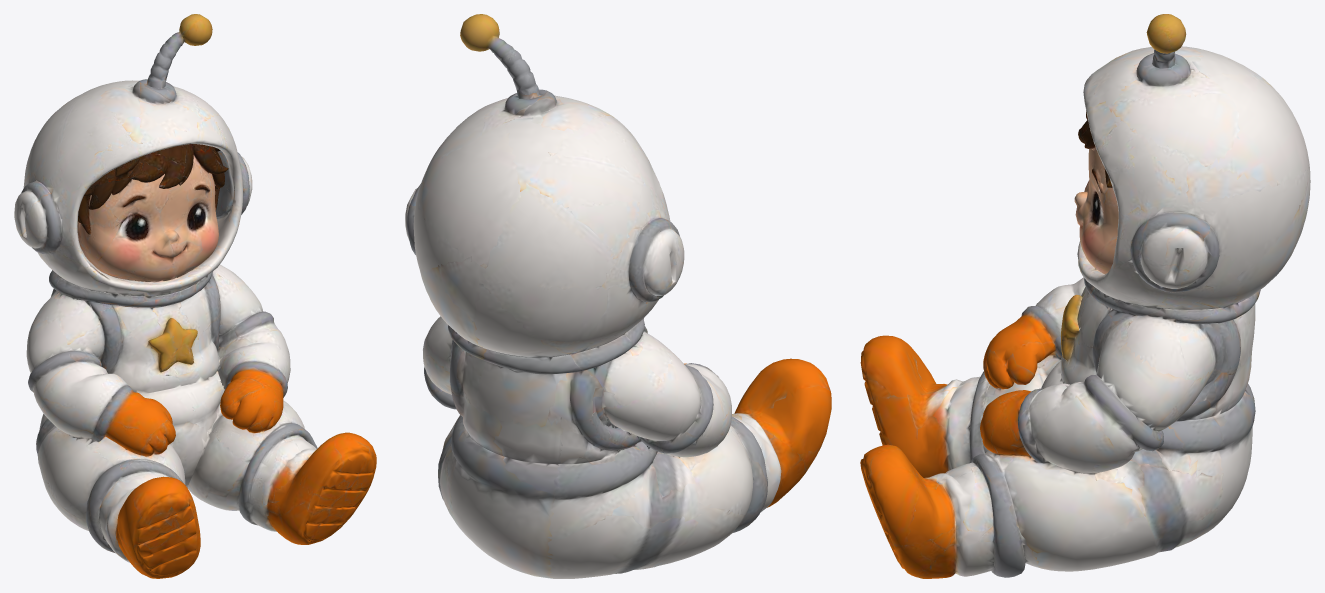
The picture shows the model from 3 angles, left to right: view 1: azimuth 30°, elevation 25°; view 2: azimuth 150°, elevation 25°; view 3: azimuth 270°, elevation 25°; orthographic projection. The views are drawn at different scales.
Size of the model in its own units: 1.09 by 1.9 by 1.42.
1 material, 1 textured.
